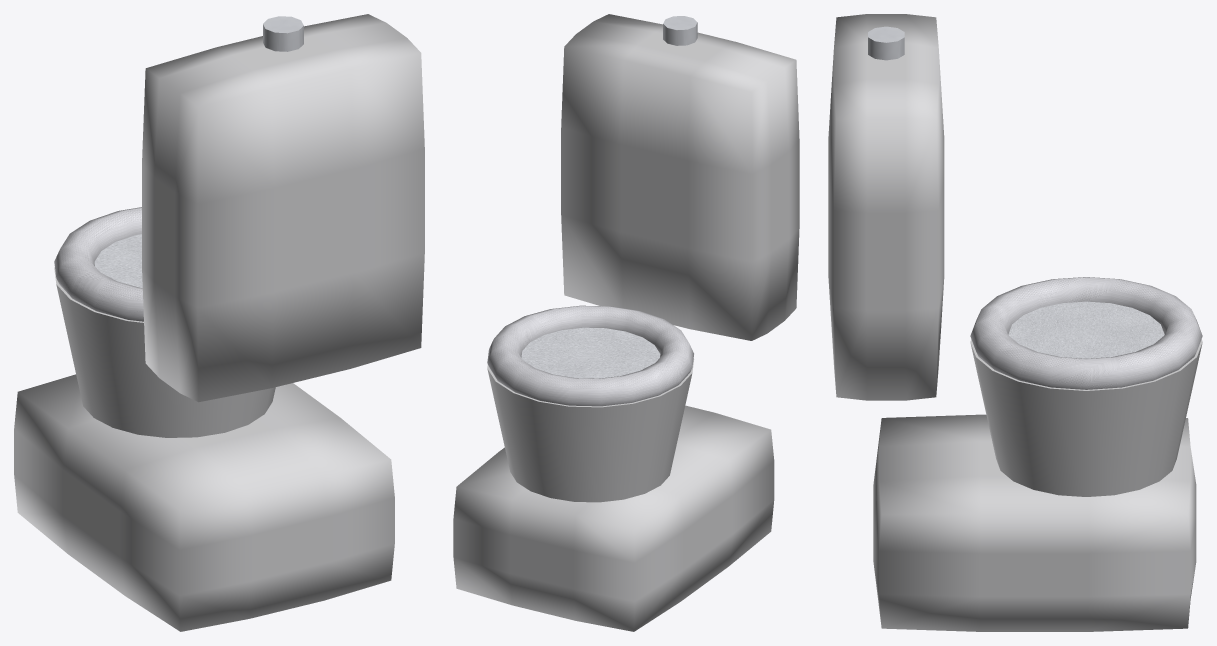
Rendered from toilet.glb.
3 views of the same model, side by side, from view 1: azimuth 30°, elevation 25°; view 2: azimuth 150°, elevation 25°; view 3: azimuth 270°, elevation 25° (orthographic). The views are drawn at different scales.
Parts seen in each view (by area): view 1: toilet_body; view 2: toilet_body; view 3: toilet_body.
Part boxes in pixels (bbox=[...]): toilet_body: bbox=[14, 14, 424, 631]; toilet_body: bbox=[453, 14, 799, 631]; toilet_body: bbox=[828, 14, 1202, 631].
Size of the model in its own units: 0.4 by 0.945 by 0.58.
4 materials, 3 textured.
